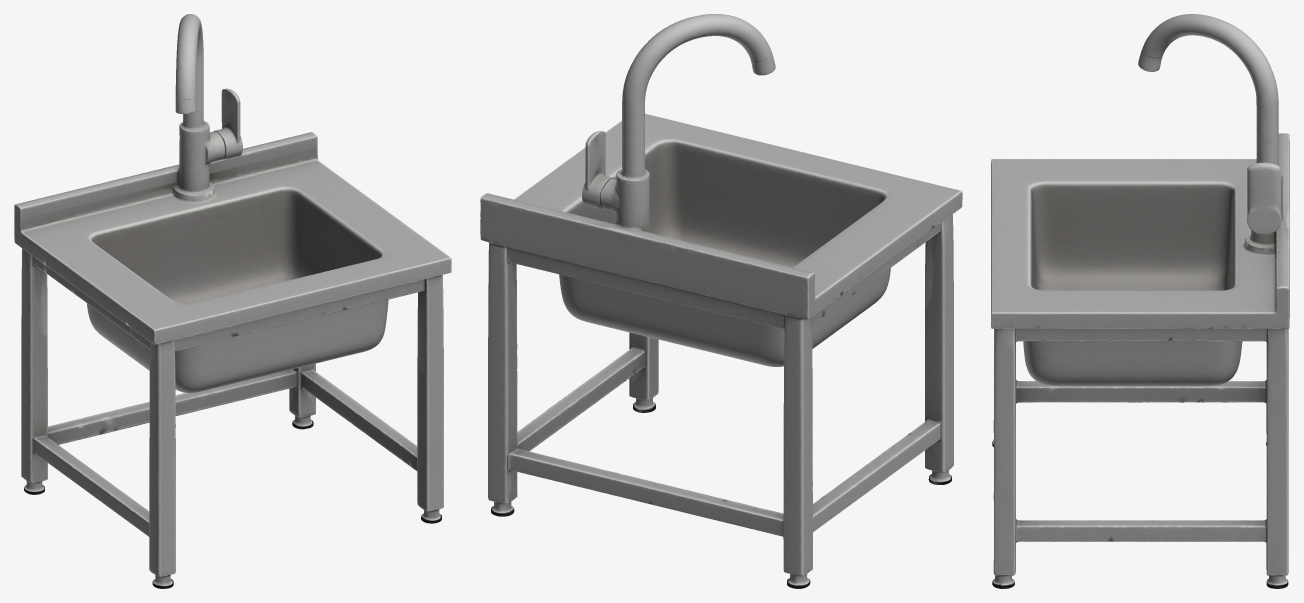
File: sink.fbx
3 renders of one model, left to right at view 1: azimuth 30°, elevation 25°; view 2: azimuth 150°, elevation 25°; view 3: azimuth 270°, elevation 25°, orthographic. The views are drawn at different scales.
Visible parts, largest first — view 1: Mesh_0; view 2: Mesh_0; view 3: Mesh_0.
Part boxes in pixels (x1,y1,x2,y2): Mesh_0: (14, 14, 451, 588); Mesh_0: (480, 14, 962, 588); Mesh_0: (991, 14, 1289, 588).
Bounding box in the file's own units: 128 × 190 × 105.
1 material, 1 textured.
